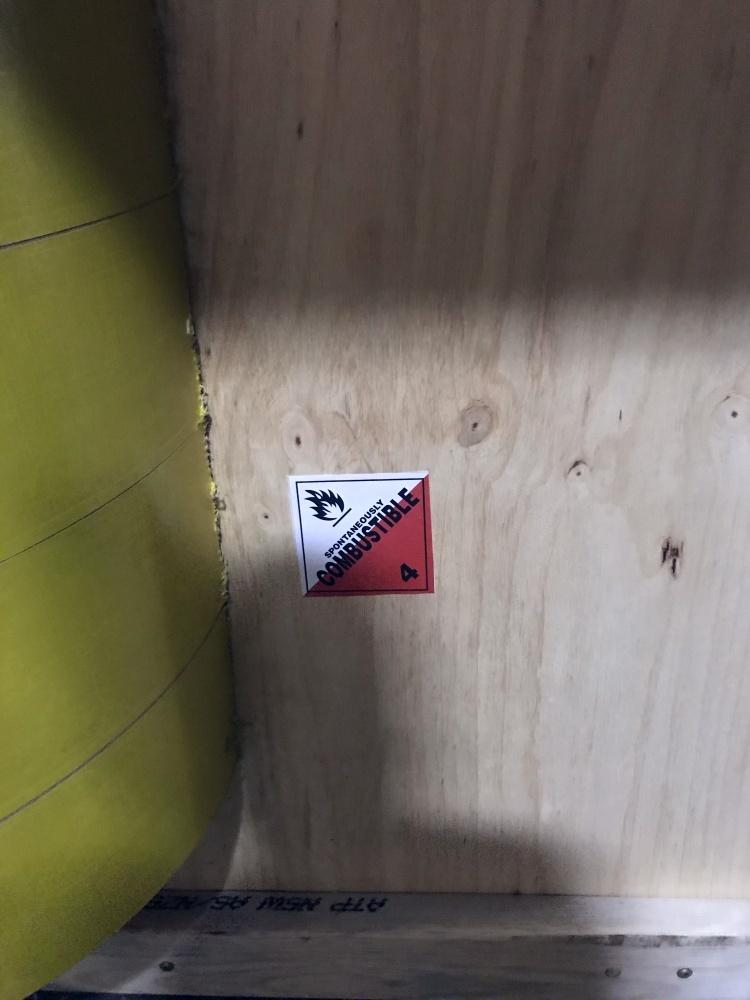spontaneously-combustible: (298, 468, 438, 604)
